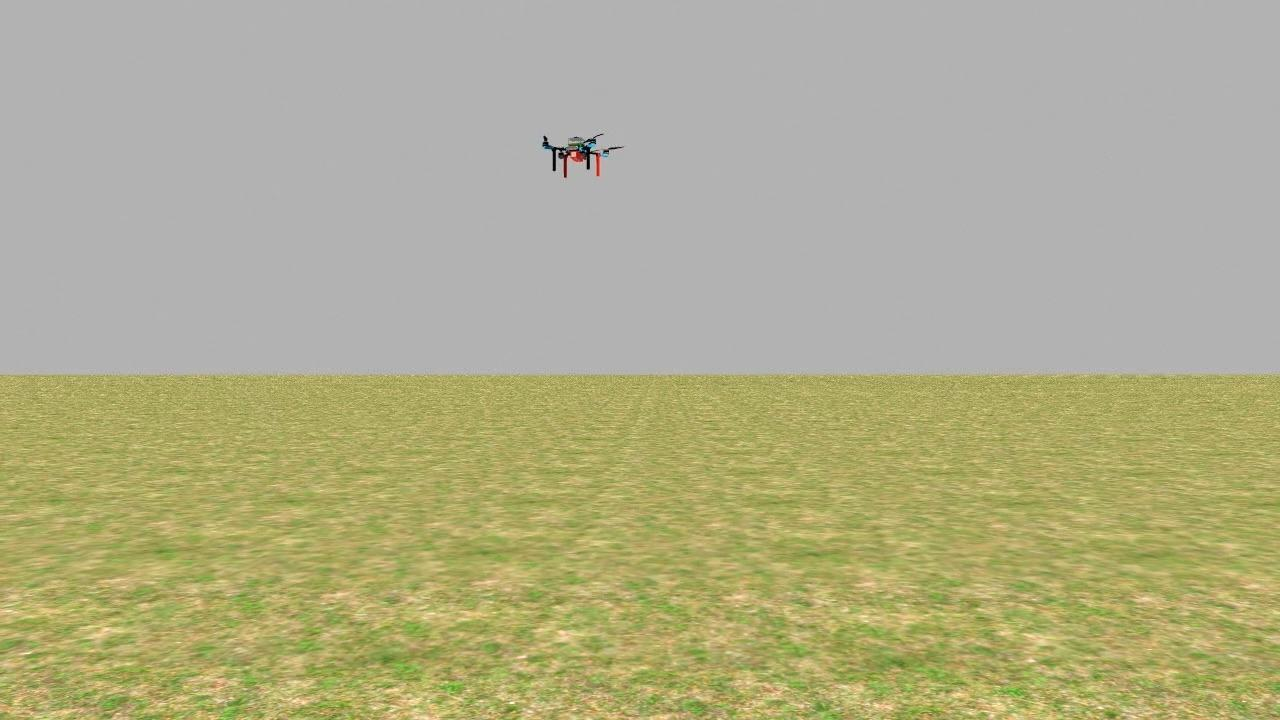UAV: (534, 118, 620, 187)
